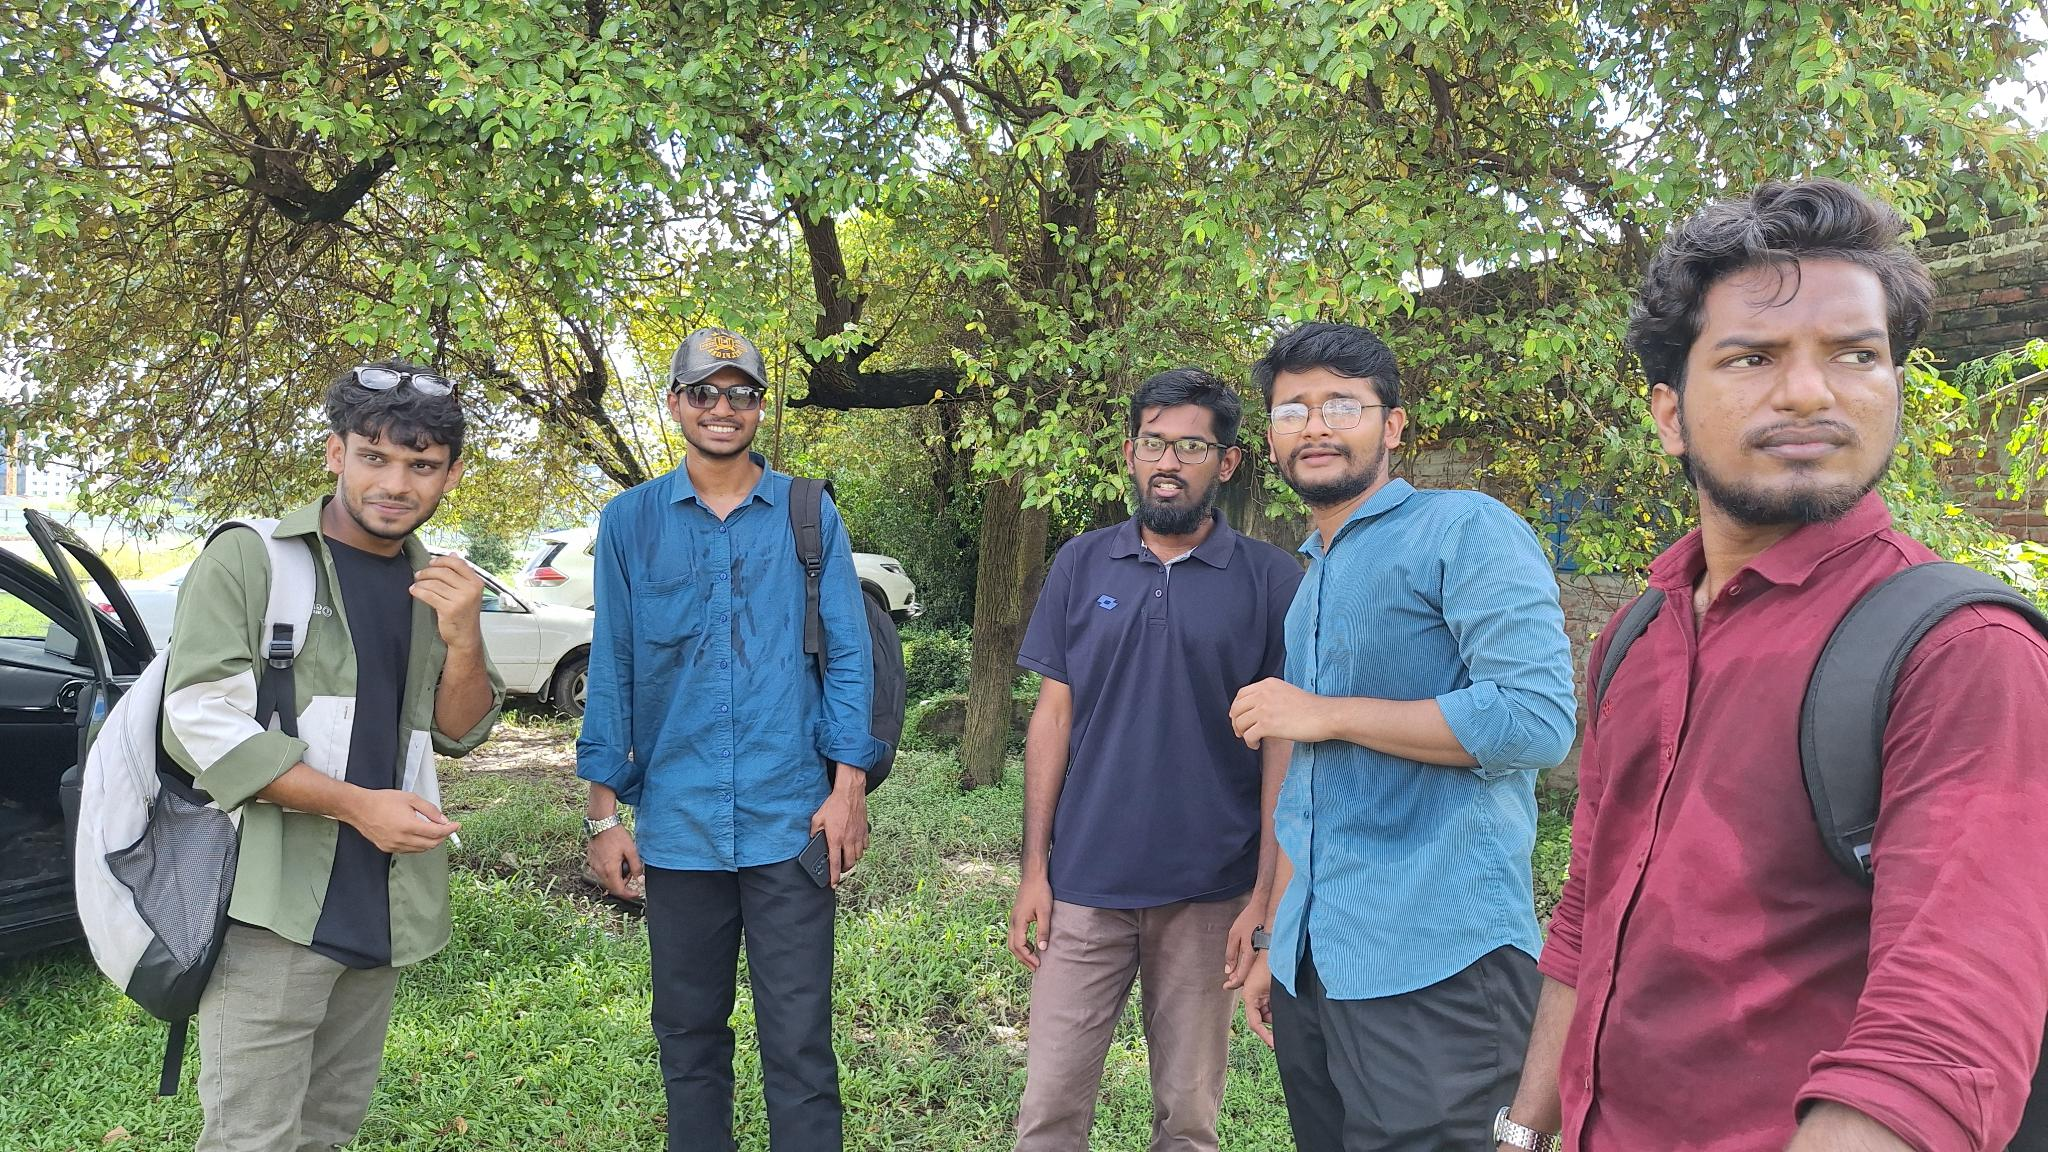cigarette: (447, 830, 464, 852)
nonSmoker: (1488, 174, 2048, 1152), (1231, 324, 1578, 1152), (577, 326, 904, 1152), (1009, 367, 1300, 1152)
smoker: (75, 361, 505, 1152)
